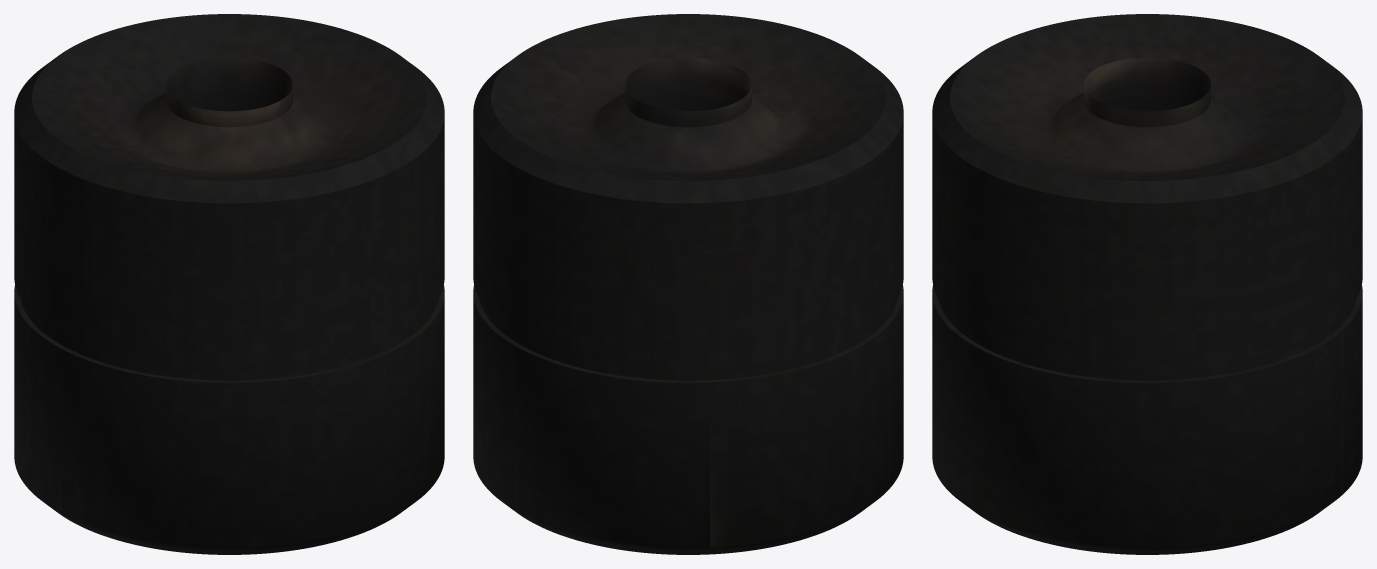
Rendered from leg_roller_0__foam_sleeve.glb.
The picture shows the model from 3 angles, left to right: view 1: azimuth 30°, elevation 25°; view 2: azimuth 150°, elevation 25°; view 3: azimuth 270°, elevation 25°; orthographic projection.
Visible parts, largest first — view 1: geometry_0; view 2: geometry_0; view 3: geometry_0.
Part boxes in pixels (box(x1,y1,x2,y2)): geometry_0: box(14, 14, 444, 554); geometry_0: box(473, 14, 903, 554); geometry_0: box(932, 14, 1362, 554).
Bounding box in the file's own units: 0.156 × 0.16 × 0.156.
1 material, 1 textured.
